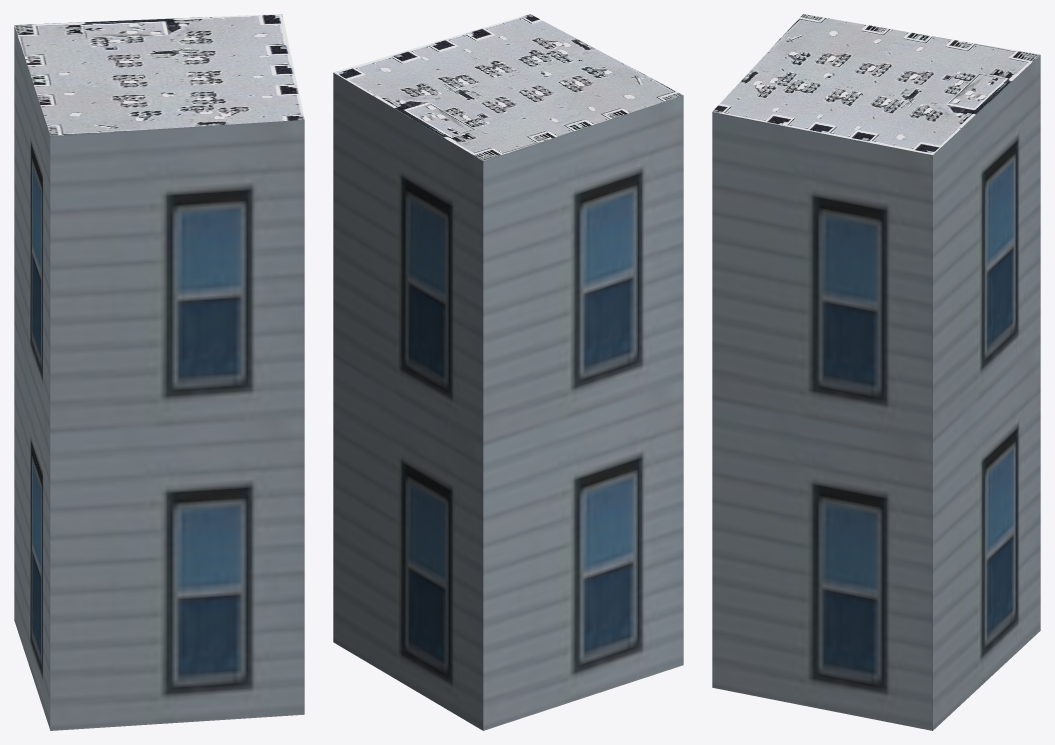
Rendered from ResTex__752.fbx.
3 views of the same model, side by side, from view 1: azimuth 30°, elevation 25°; view 2: azimuth 150°, elevation 25°; view 3: azimuth 270°, elevation 25° (orthographic). The views are drawn at different scales.
Visible parts, largest first — view 1: CityEngineMaterial_18_m, CityEngineMaterial_m; view 2: CityEngineMaterial_18_m, CityEngineMaterial_m; view 3: CityEngineMaterial_18_m, CityEngineMaterial_m.
Boxes of the visible parts, x1,y1,x2,y2 form: CityEngineMaterial_18_m: (14,26,304,730); CityEngineMaterial_m: (14,14,304,135); CityEngineMaterial_18_m: (333,73,683,730); CityEngineMaterial_m: (333,14,683,160); CityEngineMaterial_18_m: (712,55,1040,730); CityEngineMaterial_m: (712,14,1040,154).
Size of the model in its own units: 3.16 by 6 by 3.1.
2 materials, 2 textured.
